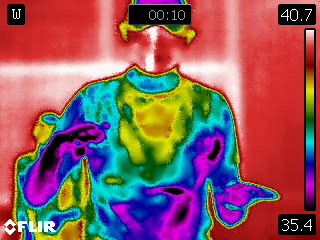human: (25, 1, 280, 239), (11, 107, 92, 240)
